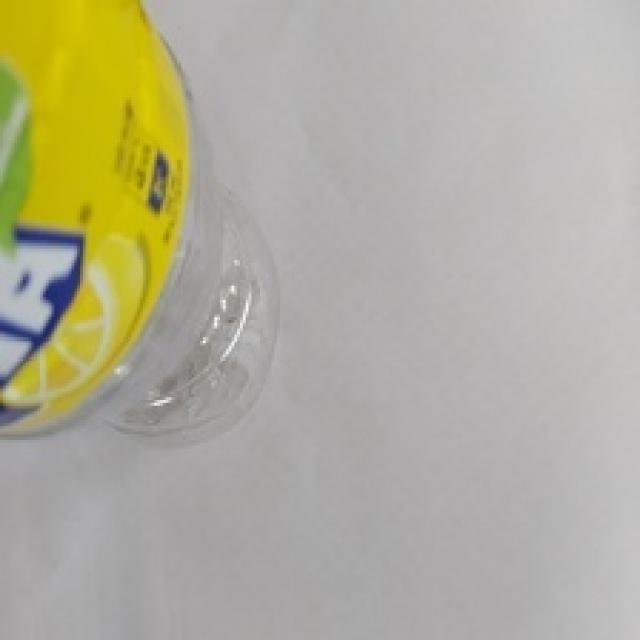Plastic: (0, 0, 284, 445)
